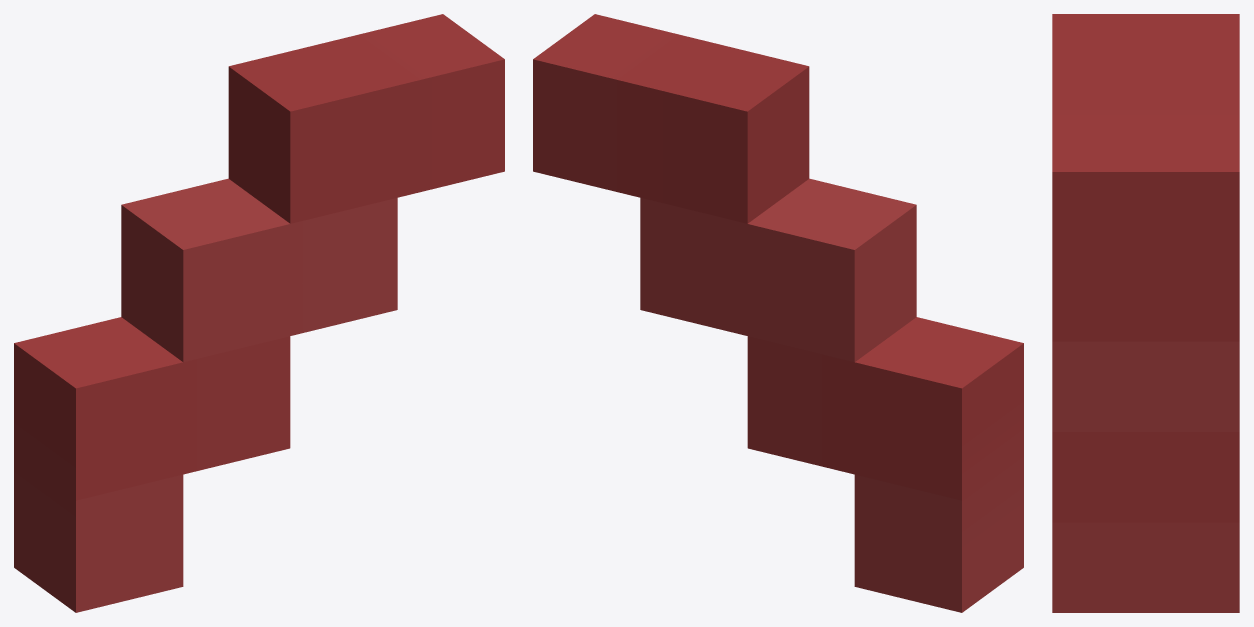
File: Altar_BloodMeter_3.fbx
The picture shows the model from 3 angles, left to right: view 1: azimuth 30°, elevation 25°; view 2: azimuth 150°, elevation 25°; view 3: azimuth 270°, elevation 25°; orthographic projection. The views are drawn at different scales.
Parts seen in each view (by area): view 1: Altar_BloodMeter_3; view 2: Altar_BloodMeter_3; view 3: Altar_BloodMeter_3.
Part boxes in pixels (box(x1,y1,x2,y2)): Altar_BloodMeter_3: box(14, 14, 504, 612); Altar_BloodMeter_3: box(533, 14, 1023, 612); Altar_BloodMeter_3: box(1052, 14, 1239, 612).
Size of the model in its own units: 4 by 4 by 1.
1 material, 1 textured.
